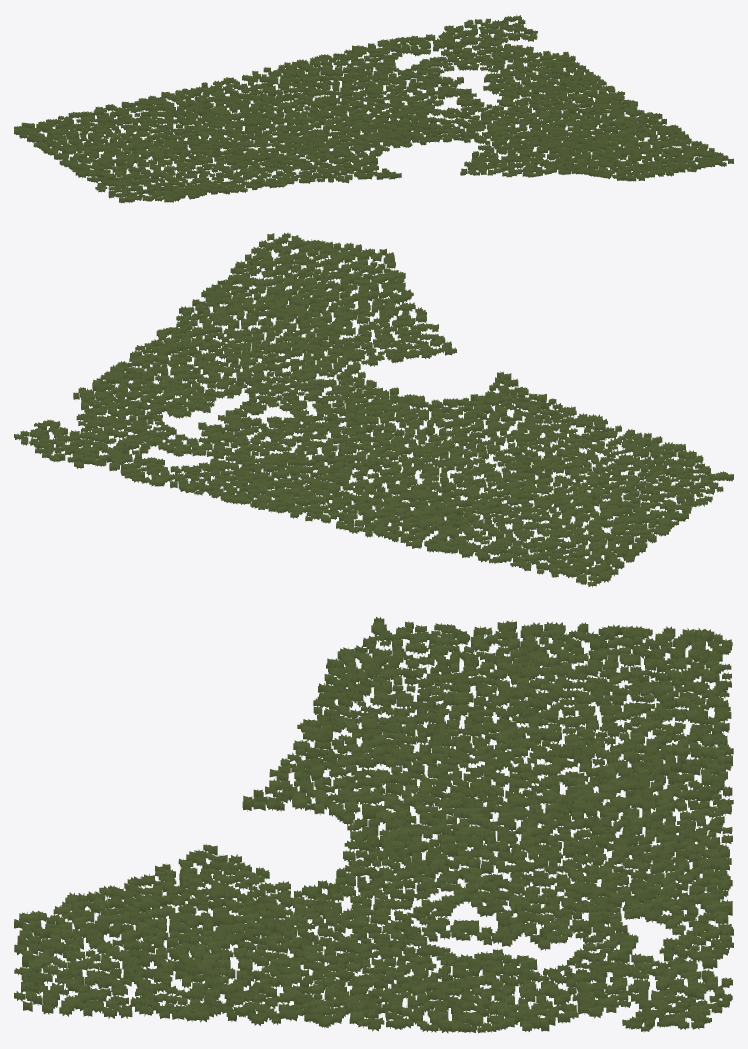
Rendered from TRB8-GRASS-CHUNK-3-4.glb.
The picture shows the model from 3 angles, top to bottom: view 1: azimuth 30°, elevation 25°; view 2: azimuth 150°, elevation 25°; view 3: azimuth 270°, elevation 25°; orthographic projection. The views are drawn at different scales.
Visible parts, largest first — view 1: TRB8-GRASS-CHUNK-3-4; view 2: TRB8-GRASS-CHUNK-3-4; view 3: TRB8-GRASS-CHUNK-3-4.
Boxes of the visible parts, x1,y1,x2,y2 form: TRB8-GRASS-CHUNK-3-4: (14,14,733,203); TRB8-GRASS-CHUNK-3-4: (14,232,733,587); TRB8-GRASS-CHUNK-3-4: (14,617,733,1033).
Size of the model in its own units: 40.51 by 2.11 by 31.69.
Materials: 1 (1 with a texture image).
